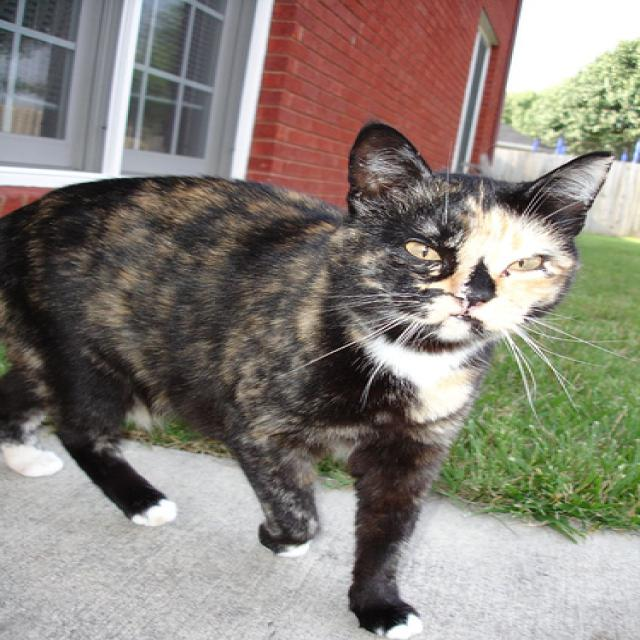cat: (1, 120, 627, 639)
